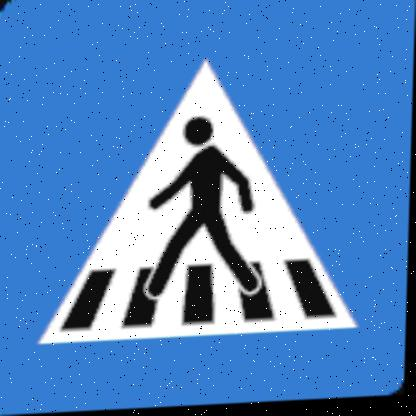Pedestrian Crossing: (36, 0, 387, 389)
